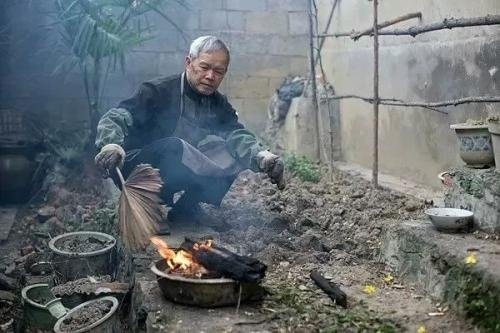fire: (148, 230, 215, 271)
